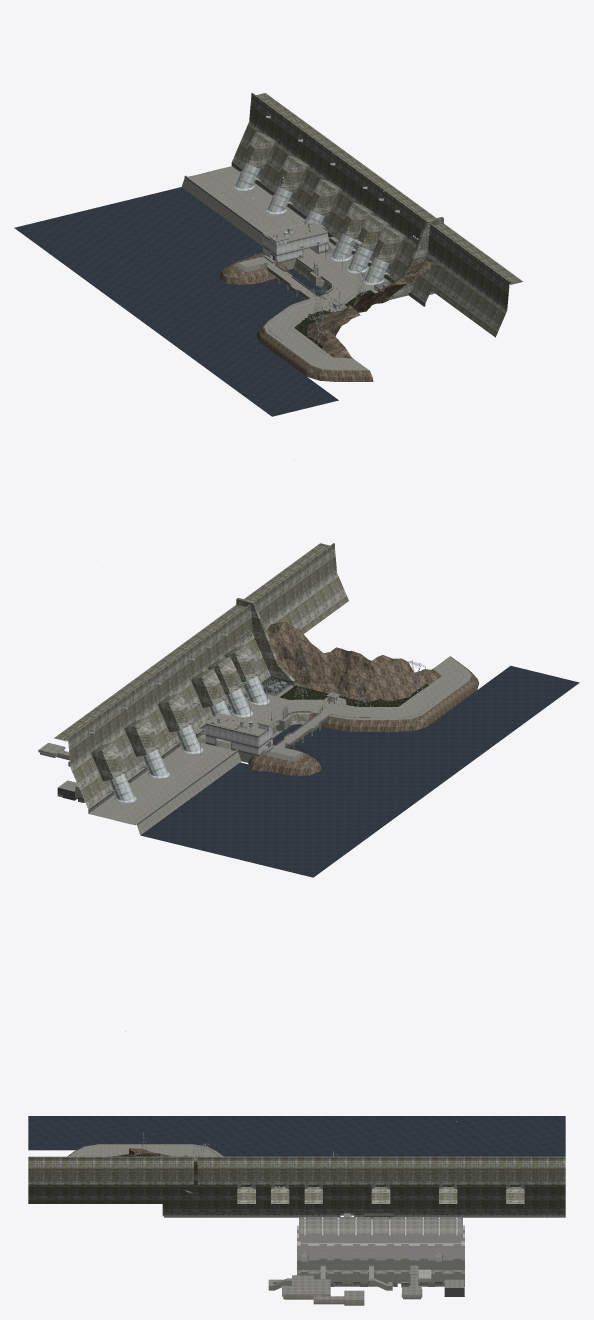
The model's file is recovered_map_m63.glb.
3 renders of one model, top to bottom at view 1: azimuth 30°, elevation 25°; view 2: azimuth 150°, elevation 25°; view 3: azimuth 270°, elevation 25°, orthographic. The views are drawn at different scales.
Parts seen in each view (by area): view 1: W_water, W_concrete_ext, W_concrete_floor, W_rock3_lrg, W_steel_white, W_bldg_metal, W_cement_base; view 2: W_water, W_concrete_ext, W_concrete_floor, W_rock3_lrg, W_steel_white, W_bldg_metal, W_cement_base, W_ground_grassy, W_chainlink; view 3: W_concrete_ext, W_water, W_concrete_floor, W_int_wall_generator, W_ceiling_panel, W_cement_base, W_wall_int_textured.
Boxes of the visible parts, x1,y1,x2,y2 form: W_water: [14, 187, 338, 416]; W_concrete_ext: [232, 93, 523, 337]; W_concrete_floor: [181, 166, 434, 370]; W_rock3_lrg: [219, 253, 440, 381]; W_steel_white: [233, 116, 418, 303]; W_bldg_metal: [263, 224, 343, 309]; W_cement_base: [184, 162, 432, 318]; W_water: [140, 665, 579, 877]; W_concrete_ext: [54, 543, 348, 809]; W_concrete_floor: [58, 656, 471, 835]; W_rock3_lrg: [248, 622, 479, 776]; W_steel_white: [89, 630, 333, 802]; W_bldg_metal: [205, 696, 338, 755]; W_cement_base: [77, 676, 370, 825]; W_ground_grassy: [279, 683, 428, 706]; W_chainlink: [197, 678, 345, 761]; W_concrete_ext: [28, 1153, 565, 1213]; W_water: [28, 1116, 565, 1156]; W_concrete_floor: [68, 1144, 464, 1296]; W_int_wall_generator: [297, 1218, 464, 1261]; W_ceiling_panel: [282, 1213, 464, 1299]; W_cement_base: [162, 1213, 565, 1287]; W_wall_int_textured: [282, 1274, 431, 1305].
Size of what is drawn, in the model's own units: 388 by 212 by 455.
119 materials, 119 textured.
